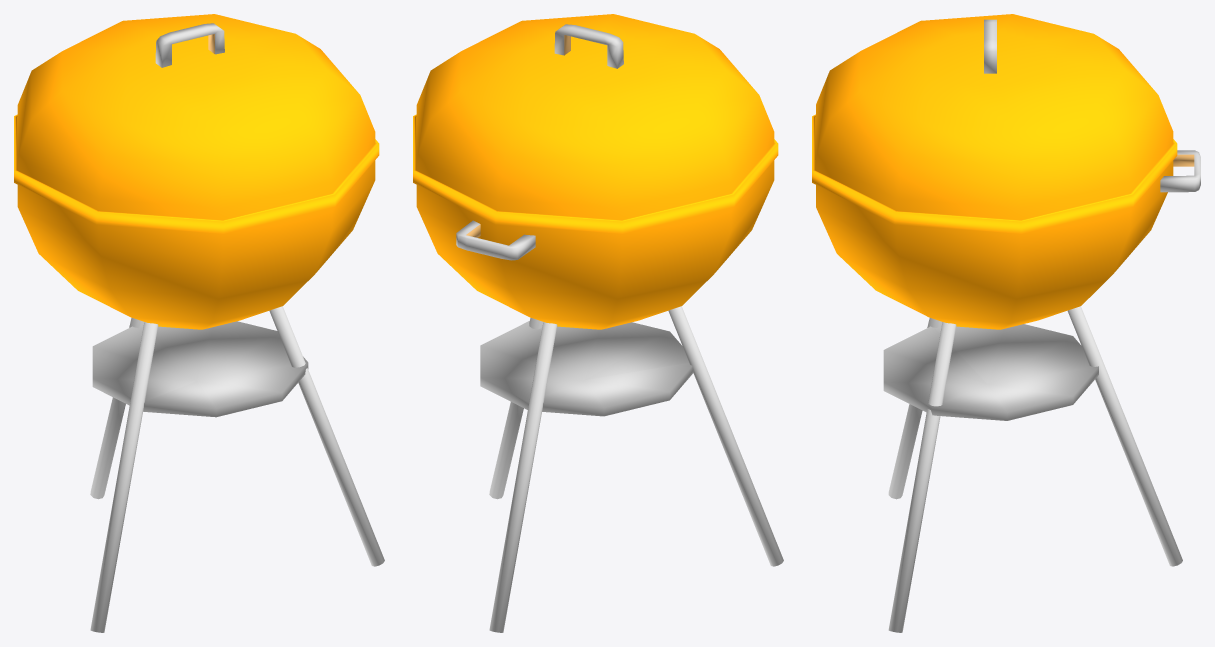
Rendered from PortableBarbecueGrillGold.glb.
3 views of the same model, side by side, from view 1: azimuth 30°, elevation 25°; view 2: azimuth 150°, elevation 25°; view 3: azimuth 270°, elevation 25° (orthographic).
Visible parts, largest first — view 1: PortableBarbecueGrillGold; view 2: PortableBarbecueGrillGold; view 3: PortableBarbecueGrillGold.
Boxes of the visible parts, bbox=[...] form: PortableBarbecueGrillGold: bbox=[14, 14, 384, 632]; PortableBarbecueGrillGold: bbox=[413, 14, 783, 632]; PortableBarbecueGrillGold: bbox=[812, 14, 1200, 632].
Bounding box in the file's own units: 0.7781 × 1.24 × 0.8156.
1 material, 1 textured.
